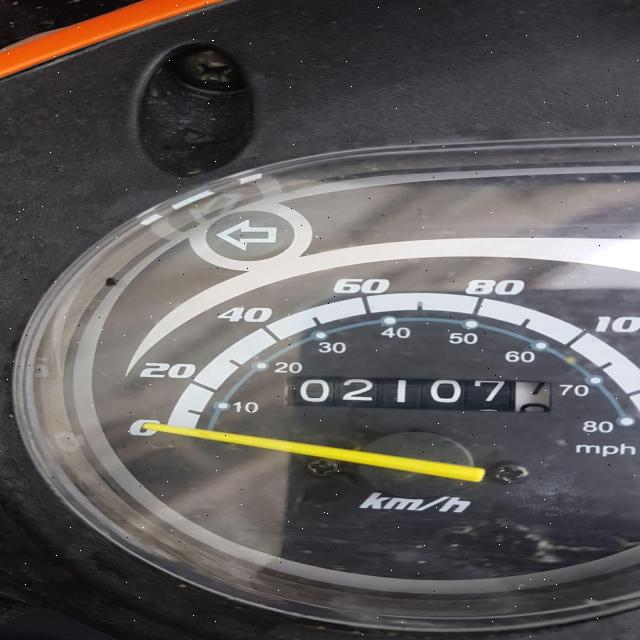odometer: (283, 373, 556, 416)
